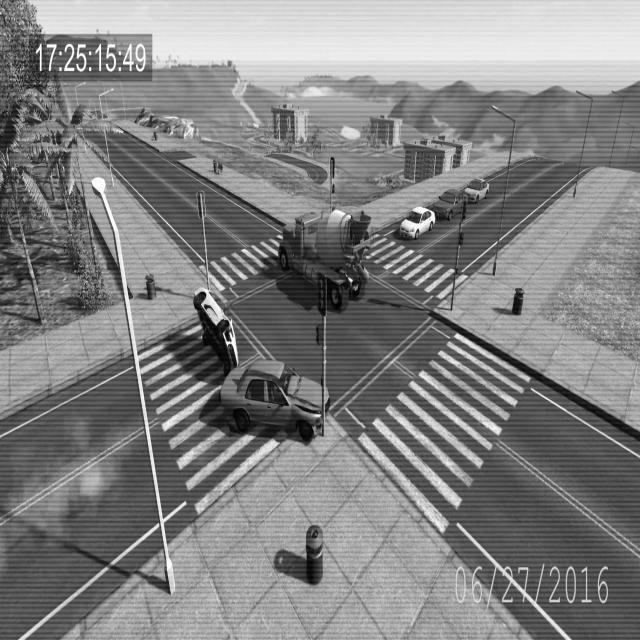accident: (217, 351, 335, 445), (185, 279, 245, 367)
vehicle: (280, 204, 372, 314), (399, 201, 435, 243), (433, 182, 466, 223), (465, 172, 491, 206)
